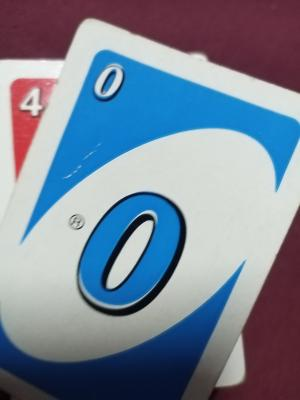blue: (63, 72, 200, 378)
num_0: (83, 58, 135, 103)
num_4: (14, 85, 49, 121)
